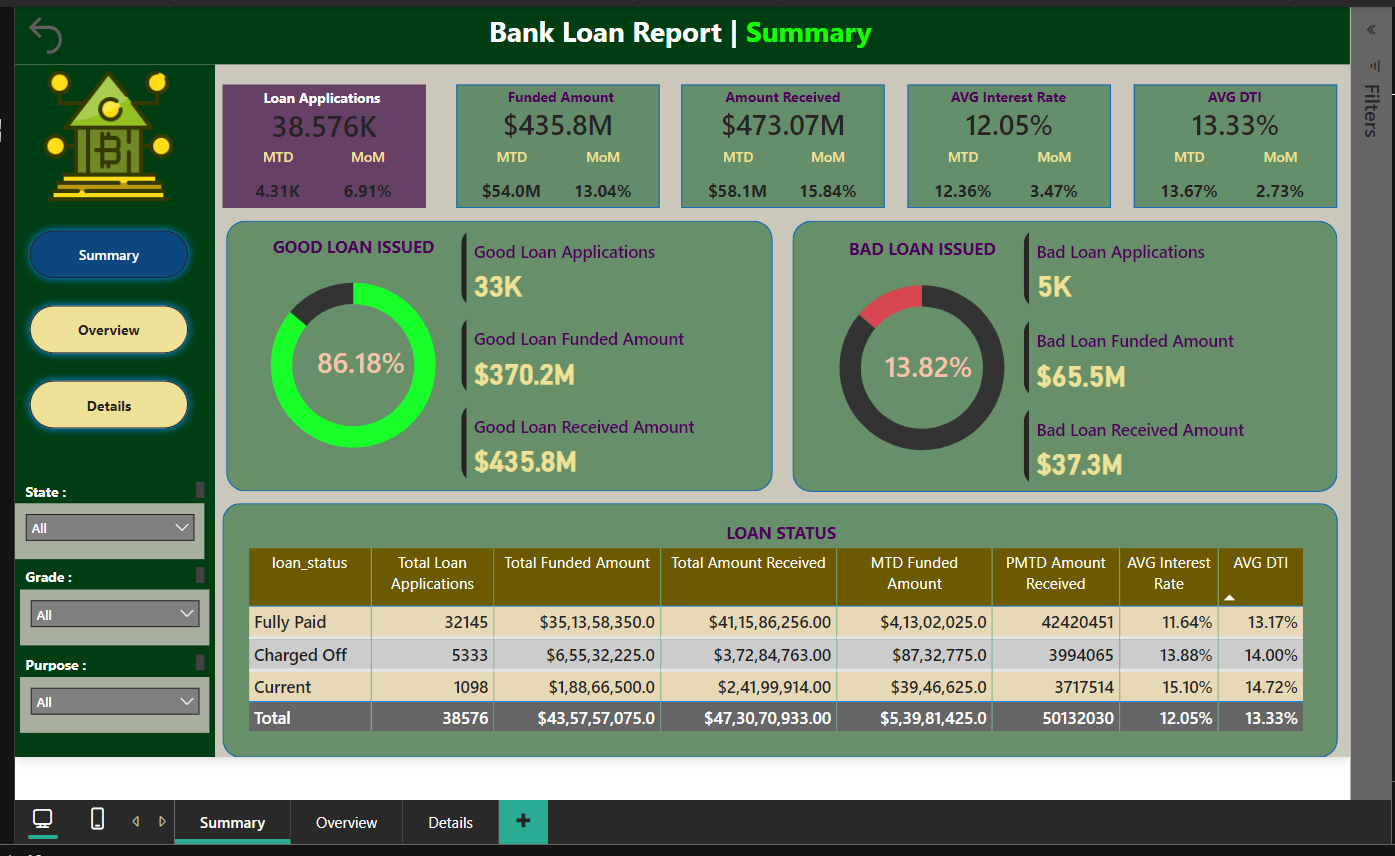

The page's visual inventory and layout, read from the dashboard file:
{"tool":"powerbi","page":{"name":"Summary","canvas":[1280,720],"ordinal":0},"visuals":[{"type":"shape","box":[198.5,74.6,195.1,118.5],"z":0,"group":"g1"},{"type":"shape","box":[202.1,204.6,524,259.5],"z":0},{"type":"shape","box":[422.7,75,195.1,118.5],"z":500,"group":"g2"},{"type":"shape","box":[639.4,75,195.1,118.5],"z":500,"group":"g3"},{"type":"shape","box":[856,75,195.1,118.5],"z":500,"group":"g4"},{"type":"shape","box":[1072.5,75,195.1,118.5],"z":500,"group":"g5"},{"type":"shape","box":[0,55.1,191.8,665.2],"z":1000},{"type":"cardVisual","fields":{"Data":["Measurs Table.Total Loan Applications"]},"box":[198.5,74.6,195.1,59.3],"z":1000,"group":"g1"},{"type":"cardVisual","fields":{"Data":["Measurs Table.Total Funded Amount"]},"box":[422.7,75,195.1,59.3],"z":1000,"group":"g2"},{"type":"cardVisual","fields":{"Data":["Measurs Table.Total Amount Received"]},"box":[639.4,75,195.1,59.3],"z":1000,"group":"g3"},{"type":"cardVisual","fields":{"Data":["Measurs Table.AVG Interest Rate"]},"box":[856,75,195.1,59.3],"z":1000,"group":"g4"},{"type":"cardVisual","fields":{"Data":["Measurs Table.AVG DTI"]},"box":[1072.5,75,195.1,59.3],"z":1000,"group":"g5"},{"type":"textbox","box":[430.2,72.1,186.1,33.2],"z":2000,"group":"g2"},{"type":"textbox","box":[638.9,72.1,194.8,33.2],"z":2000,"group":"g3"},{"type":"textbox","box":[856.1,72.1,193.3,33.2],"z":2000,"group":"g4"},{"type":"textbox","box":[1073.2,72.1,194.8,33.2],"z":2000,"group":"g5"},{"type":"textbox","box":[195.4,73.1,197.7,31.7],"z":2000,"group":"g1"},{"type":"donutChart","title":"GOOD LOAN ISSUED","fields":{"Y":["Measurs Table.Total Loan Applications"],"Category":["financial_loan.Good Loan vs Bad Loan"]},"box":[199.1,218.5,251,229.4],"z":2000},{"type":"shape","box":[0,0,1279.9,55],"z":3000},{"type":"cardVisual","title":"MTD","fields":{"Data":["Measurs Table.MTD Loan Applications"]},"box":[218.3,133.9,67.9,59.3],"z":3000,"group":"g1"},{"type":"cardVisual","title":"MTD","fields":{"Data":["Measurs Table.MTD Funded Amount"]},"box":[442.5,134.2,67.9,59.3],"z":3000,"group":"g2"},{"type":"cardVisual","title":"MTD","fields":{"Data":["Measurs Table.MTD Amount Received"]},"box":[659.2,134.2,67.9,59.3],"z":3000,"group":"g3"},{"type":"cardVisual","title":"MTD","fields":{"Data":["Measurs Table.MTD AVG Interested Rate"]},"box":[875.8,134.2,67.9,59.3],"z":3000,"group":"g4"},{"type":"cardVisual","title":"MTD","fields":{"Data":["Measurs Table.MTD AVG DTI"]},"box":[1092.3,134.2,67.9,59.3],"z":3000,"group":"g5"},{"type":"cardVisual","title":"MoM","fields":{"Data":["Measurs Table.MOM Loan Application"]},"box":[304.7,133.9,67.9,59.3],"z":4000,"group":"g1"},{"type":"cardVisual","title":"MoM","fields":{"Data":["Measurs Table.MOM Funded Amount"]},"box":[528.9,134.2,67.9,59.3],"z":4000,"group":"g2"},{"type":"cardVisual","title":"MoM","fields":{"Data":["Measurs Table.MOM Amount Received"]},"box":[745.6,134.2,67.9,59.3],"z":4000,"group":"g3"},{"type":"cardVisual","title":"MoM","fields":{"Data":["Measurs Table.MOM AVG Intrest Rate"]},"box":[962.2,134.2,67.9,59.3],"z":4000,"group":"g4"},{"type":"cardVisual","title":"MoM","fields":{"Data":["Measurs Table.MOM AVG DTI"]},"box":[1178.7,134.2,67.9,59.3],"z":4000,"group":"g5"},{"type":"cardVisual","fields":{"Data":["Measurs Table.Good Loan %"]},"box":[233.7,302.2,196.2,60.6],"z":4000},{"type":"textbox","box":[449.4,0,396.3,58],"z":5000},{"type":"group","id":"g1","title":"Loan Application","box":[195.4,73.1,199,119.9],"z":6000},{"type":"shape","box":[745.5,204.9,522.5,260.1],"z":7000},{"type":"group","id":"g2","title":"Funded Amount","box":[422.7,72.1,194.8,121.2],"z":8000},{"type":"group","id":"g3","title":"Amount Received","box":[638.9,72.1,195.6,121.4],"z":9000},{"type":"group","id":"g4","title":"AVG Interested Rate","box":[856,72.1,195.1,121.4],"z":10000},{"type":"group","id":"g5","title":"AVG DTI","box":[1072.5,72.1,195.5,121.4],"z":11000},{"type":"donutChart","title":"BAD LOAN ISSUED","fields":{"Y":["Measurs Table.Total Loan Applications"],"Category":["financial_loan.Good Loan vs Bad Loan"]},"box":[744.5,220.9,251,229.4],"z":12000},{"type":"cardVisual","fields":{"Data":["Measurs Table.Good Loan Applications","Measurs Table.Good Loan Funded Amount","Measurs Table.Good Loan Received Amount"]},"box":[422.5,205.7,289.3,259],"z":13000},{"type":"cardVisual","fields":{"Data":["Measurs Table.Bad Loan Applications","Measurs Table.Bad Loan Funded Amount","Measurs Table.Bad Loan Received Amount"]},"box":[962.3,206.5,288.6,259.7],"z":14000},{"type":"cardVisual","fields":{"Data":["Measurs Table.Bad Loan %"]},"box":[777.6,306,196.2,60.6],"z":15000},{"type":"shape","box":[198.4,475.5,1069.2,243.8],"z":16000},{"type":"tableEx","title":"LOAN STATUS","fields":{"Values":["financial_loan.loan_status","Measurs Table.Total Loan Applications","Measurs Table.Total Funded Amount","Measurs Table.Total Amount Received","Measurs Table.MTD Funded Amount","Measurs Table.PMTD Amount Received","Measurs Table.AVG Interest Rate","Measurs Table.AVG DTI"]},"box":[218.1,492.2,1032.9,216.6],"z":17000},{"type":"slicer","fields":{"Values":["financial_loan.address_state"]},"box":[0,476.1,181.8,53.4],"z":18000},{"type":"textbox","box":[4.3,450.1,181.8,26],"z":19000},{"type":"slicer","fields":{"Values":["financial_loan.grade"]},"box":[4.3,558.3,181.8,53.4],"z":20000},{"type":"textbox","box":[4.3,532.4,181.8,26],"z":21000},{"type":"slicer","fields":{"Values":["financial_loan.purpose"]},"box":[4.3,642,181.8,53.4],"z":22000},{"type":"textbox","box":[4.3,616.1,181.8,26],"z":23000},{"type":"image","box":[16.8,56.3,146.2,134.2],"z":23001},{"type":"pageNavigator","box":[5.8,206.3,168.8,207.8],"z":23002},{"type":"actionButton","box":[6,3.6,65.9,46.7],"z":23004}]}

Visuals, with their boxes on the page's 1280x720 design canvas (x1, y1, x2, y2). These are canvas units, not pixel positions in the 1395x856 screenshot, which may show the page scaled, cropped or inside an application window:
shape: detection(198, 75, 394, 193)
shape: detection(202, 205, 726, 464)
shape: detection(423, 75, 618, 194)
shape: detection(639, 75, 834, 194)
shape: detection(856, 75, 1051, 194)
shape: detection(1072, 75, 1268, 194)
shape: detection(0, 55, 192, 720)
cardVisual - Measurs Table.Total Loan Applications: detection(198, 75, 394, 134)
cardVisual - Measurs Table.Total Funded Amount: detection(423, 75, 618, 134)
cardVisual - Measurs Table.Total Amount Received: detection(639, 75, 834, 134)
cardVisual - Measurs Table.AVG Interest Rate: detection(856, 75, 1051, 134)
cardVisual - Measurs Table.AVG DTI: detection(1072, 75, 1268, 134)
textbox: detection(430, 72, 616, 105)
textbox: detection(639, 72, 834, 105)
textbox: detection(856, 72, 1049, 105)
textbox: detection(1073, 72, 1268, 105)
textbox: detection(195, 73, 393, 105)
"GOOD LOAN ISSUED" donutChart: detection(199, 218, 450, 448)
shape: detection(0, 0, 1280, 55)
"MTD" cardVisual: detection(218, 134, 286, 193)
"MTD" cardVisual: detection(442, 134, 510, 194)
"MTD" cardVisual: detection(659, 134, 727, 194)
"MTD" cardVisual: detection(876, 134, 944, 194)
"MTD" cardVisual: detection(1092, 134, 1160, 194)
"MoM" cardVisual: detection(305, 134, 373, 193)
"MoM" cardVisual: detection(529, 134, 597, 194)
"MoM" cardVisual: detection(746, 134, 814, 194)
"MoM" cardVisual: detection(962, 134, 1030, 194)
"MoM" cardVisual: detection(1179, 134, 1247, 194)
cardVisual - Measurs Table.Good Loan %: detection(234, 302, 430, 363)
textbox: detection(449, 0, 846, 58)
"Loan Application" group: detection(195, 73, 394, 193)
shape: detection(746, 205, 1268, 465)
"Funded Amount" group: detection(423, 72, 618, 193)
"Amount Received" group: detection(639, 72, 834, 194)
"AVG Interested Rate" group: detection(856, 72, 1051, 194)
"AVG DTI" group: detection(1072, 72, 1268, 194)
"BAD LOAN ISSUED" donutChart: detection(744, 221, 996, 450)
cardVisual - Measurs Table.Good Loan Applications x Measurs Table.Good Loan Funded Amount: detection(422, 206, 712, 465)
cardVisual - Measurs Table.Bad Loan Applications x Measurs Table.Bad Loan Funded Amount: detection(962, 206, 1251, 466)
cardVisual - Measurs Table.Bad Loan %: detection(778, 306, 974, 367)
shape: detection(198, 476, 1268, 719)
"LOAN STATUS" tableEx: detection(218, 492, 1251, 709)
slicer - financial_loan.address_state: detection(0, 476, 182, 530)
textbox: detection(4, 450, 186, 476)
slicer - financial_loan.grade: detection(4, 558, 186, 612)
textbox: detection(4, 532, 186, 558)
slicer - financial_loan.purpose: detection(4, 642, 186, 695)
textbox: detection(4, 616, 186, 642)
image: detection(17, 56, 163, 190)
pageNavigator: detection(6, 206, 175, 414)
actionButton: detection(6, 4, 72, 50)
